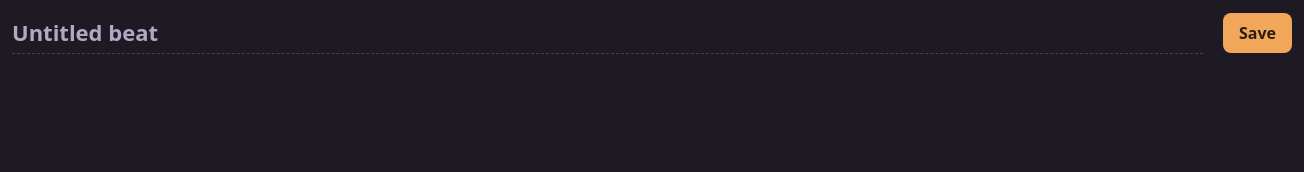
Test case: SaveBar › saves a new beat and changes the address to its URL, without a navigation
This screenshot has width=1304, height=172.
Step 1. Type "rainy window" into the field named "Beat title" → (608, 33), box [12,12,1203,54]
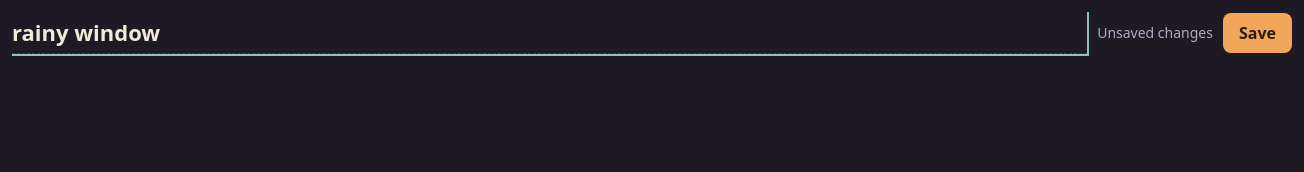
Step 2. Click the button "Save" → (1258, 33), box [1223,13,1292,53]
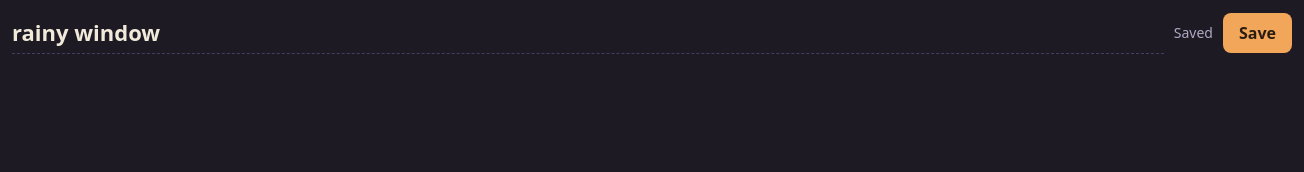
Expected: the message reads "Saved", [1174,23,1213,42]
